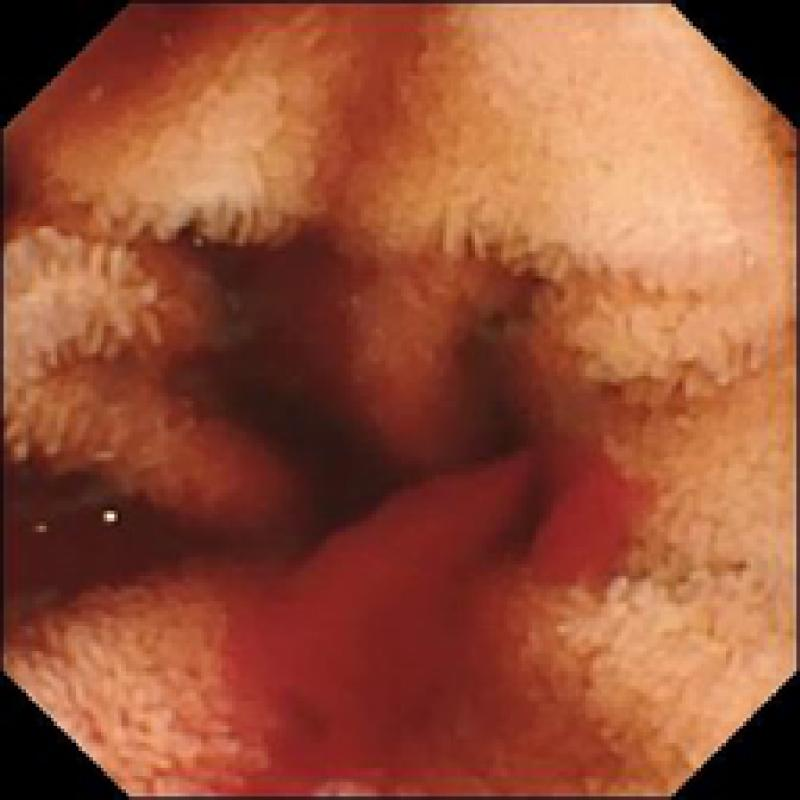bleeding: (225, 425, 664, 786)
